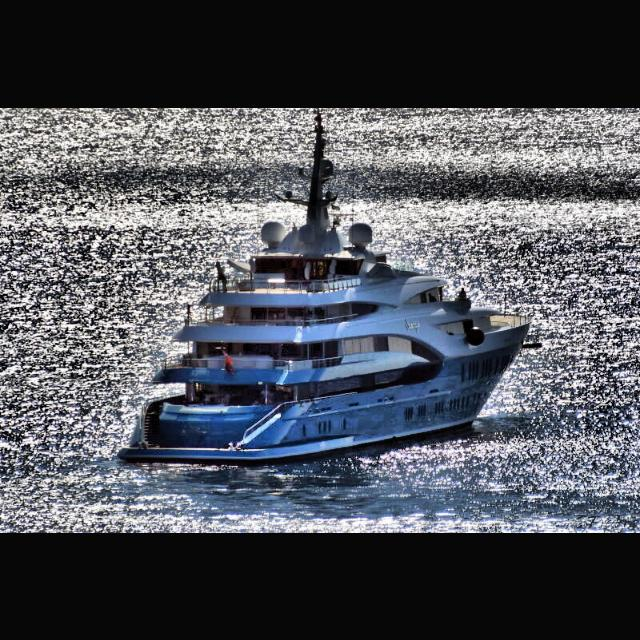yacht: (118, 154, 532, 468)
